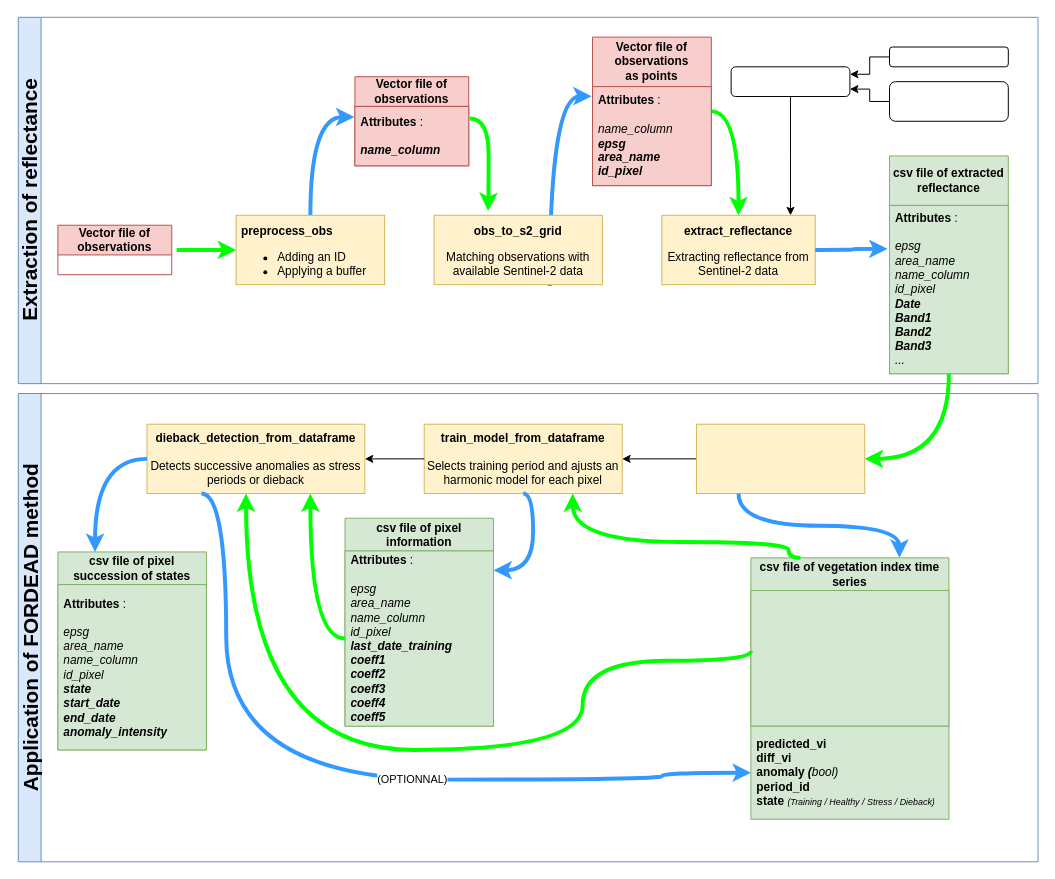
Some shapes in this 1055 by 879 pixel diagram are drawn without their labels. The shapes that lost their labels are listed below. From the top down, each one's centre as x and y in pixels, then its label:
At point (948, 56): "Local THEIA data".
At point (790, 81): "Sentinel-2 Data".
At point (948, 101): "Microsoft Planetary Computer".
At point (780, 458): "mask_vi_from_dataframe Compute the vegetation index and masks".
At point (849, 658): "Attributes : epsg area_name name_column id_pixel date (bare ground ( bool) ) vi".
